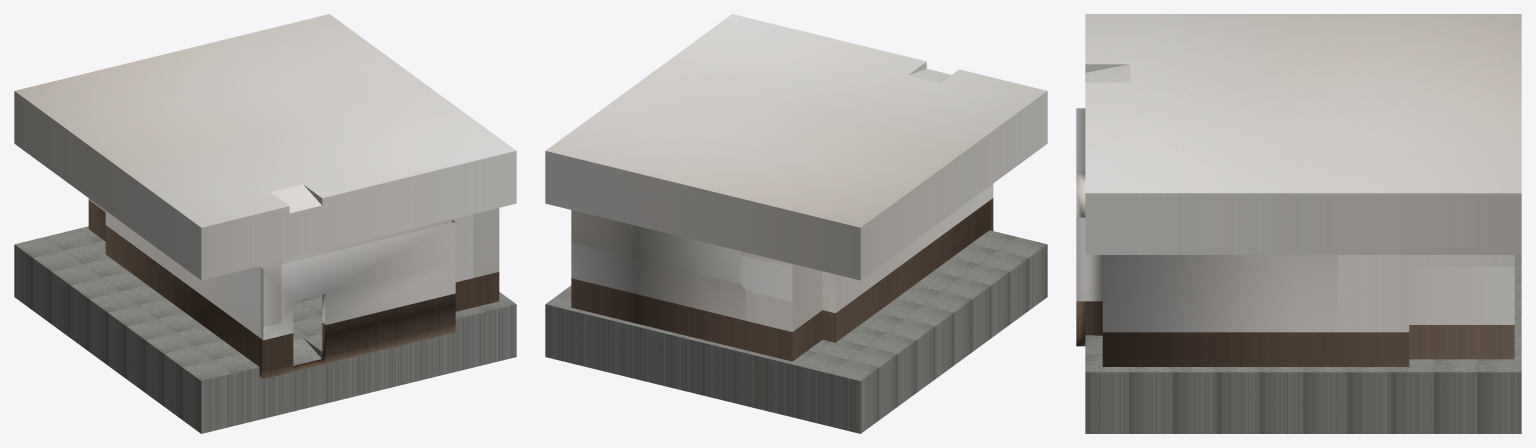
File: school.fbx
3 views of the same model, side by side, from view 1: azimuth 30°, elevation 25°; view 2: azimuth 150°, elevation 25°; view 3: azimuth 270°, elevation 25° (orthographic). The views are drawn at different scales.
Visible parts, largest first — view 1: 8A.001, 8A.003, 8A.000, 8A.002; view 2: 8A.001, 8A.003, 8A.000, 8A.002; view 3: 8A.001, 8A.000, 8A.003, 8A.002.
Boxes of the visible parts, box(x1,y1,x2,y2) form: 8A.001: box(14, 14, 516, 280); 8A.003: box(14, 226, 516, 433); 8A.000: box(88, 198, 499, 340); 8A.002: box(88, 200, 499, 378); 8A.001: box(545, 14, 1047, 280); 8A.003: box(545, 230, 1047, 433); 8A.000: box(571, 184, 993, 331); 8A.002: box(571, 198, 993, 361); 8A.001: box(1085, 14, 1521, 254); 8A.000: box(1076, 108, 1514, 332); 8A.003: box(1085, 255, 1521, 433); 8A.002: box(1076, 301, 1514, 366).
Bounding box in the file's own units: 969 × 606 × 1016.
Materials: 5 (4 with a texture image).
